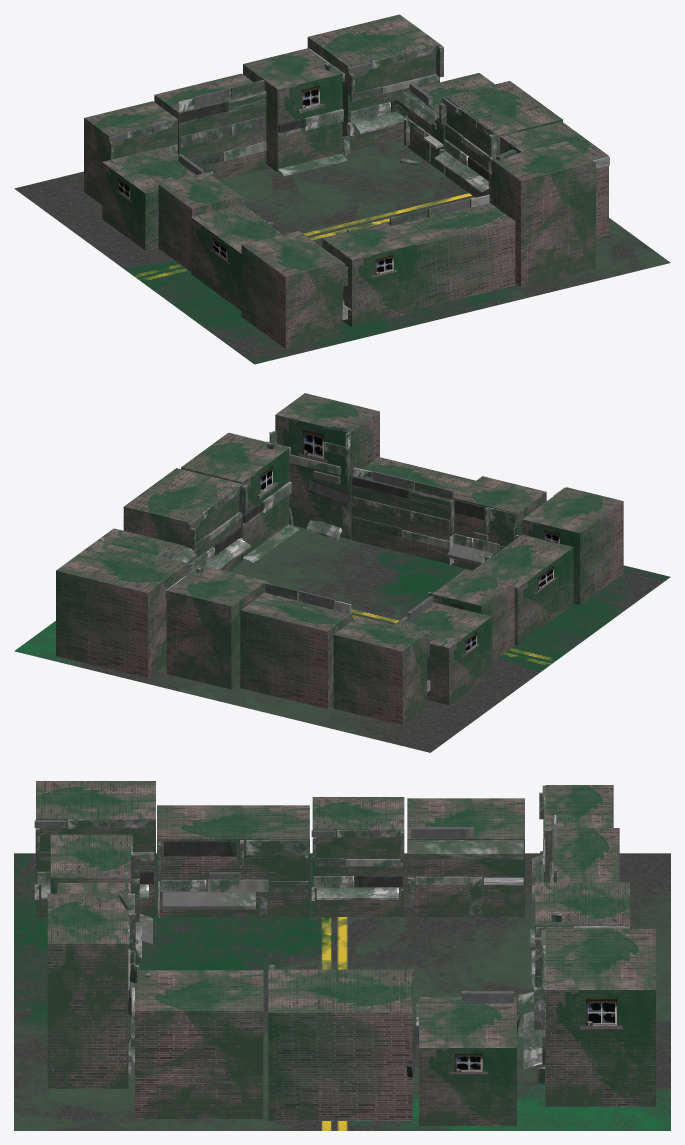
Rendered from building_1.0.1.fbx.
3 renders of one model, top to bottom at view 1: azimuth 30°, elevation 25°; view 2: azimuth 150°, elevation 25°; view 3: azimuth 270°, elevation 25°, orthographic. The views are drawn at different scales.
Visible parts, largest first — view 1: Plane.006, Cube.002, Cube.023, Cube.021, Cube.003, Cube.018, Cube.020, Cube.026, Cube.025, Cube.022, Cube.004, Cube.019 (+3 smaller); view 2: Plane.006, Cube.023, Cube.002, Cube.020, Cube.003, Cube.019, Cube.018, Cube.026, Cube.027, Cube.021, Cube.022, Cube.004 (+3 smaller); view 3: Plane.006, Cube.026, Cube.023, Cube.027, Cube.004, Cube.002, Cube.022, Cube.005, Cube.006, Cube.021, Cube.018, Cube.025 (+3 smaller).
Boxes of the visible parts, left/top/right/bottom form: Plane.006: left=14, top=138, right=670, bottom=364; Cube.002: left=488, top=141, right=595, bottom=287; Cube.023: left=307, top=14, right=443, bottom=150; Cube.021: left=241, top=231, right=351, bottom=348; Cube.003: left=389, top=194, right=515, bottom=309; Cube.018: left=243, top=48, right=350, bottom=176; Cube.020: left=154, top=73, right=266, bottom=180; Cube.026: left=434, top=81, right=562, bottom=197; Cube.025: left=322, top=222, right=416, bottom=327; Cube.022: left=102, top=147, right=204, bottom=250; Cube.004: left=191, top=204, right=283, bottom=310; Cube.019: left=84, top=101, right=177, bottom=204; Plane.006: left=14, top=525, right=670, bottom=752; Cube.023: left=56, top=538, right=192, bottom=678; Cube.002: left=269, top=393, right=379, bottom=540; Cube.020: left=240, top=582, right=352, bottom=709; Cube.003: left=351, top=457, right=475, bottom=564; Cube.019: left=333, top=616, right=430, bottom=725; Cube.018: left=165, top=565, right=266, bottom=689; Cube.026: left=123, top=468, right=250, bottom=571; Cube.027: left=181, top=432, right=299, bottom=562; Cube.021: left=522, top=487, right=623, bottom=605; Cube.022: left=394, top=596, right=492, bottom=705; Cube.004: left=472, top=534, right=573, bottom=644; Plane.006: left=14, top=853, right=670, bottom=1130; Cube.026: left=268, top=965, right=413, bottom=1120; Cube.023: left=523, top=928, right=655, bottom=1106; Cube.027: left=128, top=970, right=263, bottom=1118; Cube.004: left=157, top=805, right=309, bottom=917; Cube.002: left=47, top=892, right=139, bottom=1088; Cube.022: left=407, top=798, right=524, bottom=917; Cube.005: left=406, top=991, right=521, bottom=1125; Cube.006: left=311, top=797, right=404, bottom=916; Cube.021: left=34, top=781, right=155, bottom=917; Cube.018: left=518, top=882, right=630, bottom=1037; Cube.025: left=50, top=834, right=152, bottom=964.
Size of the model in its own units: 81.35 by 20.43 by 81.35.
